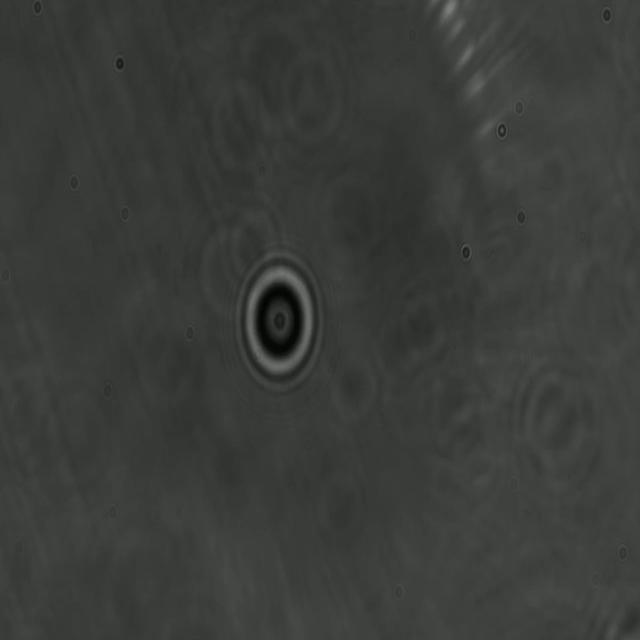LCELL: (233, 243, 325, 397)
